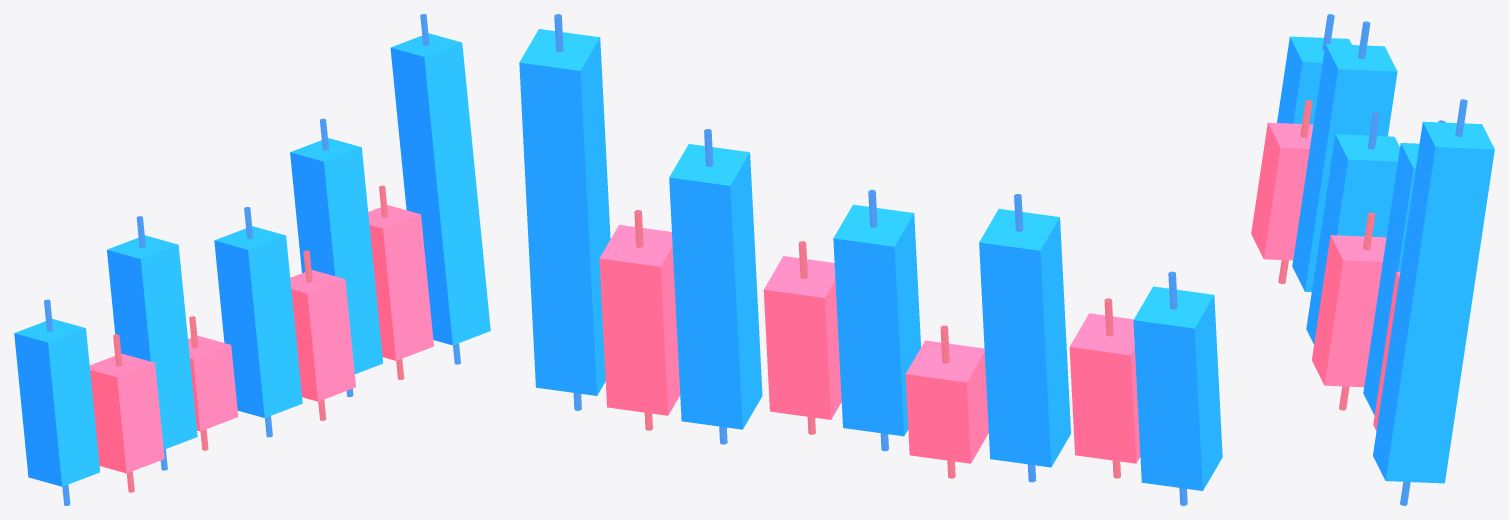
The model's file is hero_candles.glb.
3 renders of one model, left to right at view 1: azimuth 30°, elevation 25°; view 2: azimuth 150°, elevation 25°; view 3: azimuth 270°, elevation 25°, orthographic. The views are drawn at different scales.
Parts seen in each view (by area): view 1: Candle_08_body, Candle_04_body, Candle_06_body, Candle_02_body, Candle_00_body, Candle_07_body, Candle_01_body, Candle_05_body, Candle_03_body; view 2: Candle_08_body, Candle_06_body, Candle_02_body, Candle_04_body, Candle_00_body, Candle_07_body, Candle_05_body, Candle_01_body, Candle_03_body; view 3: Candle_08_body, Candle_02_body, Candle_05_body, Candle_04_body, Candle_01_body, Candle_06_body, Candle_00_body, Candle_07_body, Candle_01_wick_top, Candle_02_wick_top, Candle_05_wick_top, Candle_08_wick_top (+1 smaller).
Part boxes in pixels (x1,y1,x2,y2): Candle_08_body: (390,33,490,345); Candle_04_body: (214,226,302,417); Candle_06_body: (290,138,383,373); Candle_02_body: (107,235,197,449); Candle_00_body: (14,319,99,486); Candle_07_body: (368,205,433,360); Candle_01_body: (89,353,164,473); Candle_05_body: (290,270,355,401); Candle_03_body: (188,335,238,431); Candle_08_body: (519,29,610,395); Candle_06_body: (669,144,762,429); Candle_02_body: (979,208,1070,467); Candle_04_body: (833,204,920,436); Candle_00_body: (1133,286,1222,490); Candle_07_body: (599,224,680,415); Candle_05_body: (763,256,841,419); Candle_01_body: (1069,313,1140,463); Candle_03_body: (905,340,988,463); Candle_08_body: (1373,121,1494,483); Candle_02_body: (1292,44,1397,292); Candle_05_body: (1312,235,1386,387); Candle_04_body: (1306,134,1399,344); Candle_01_body: (1251,122,1313,260); Candle_06_body: (1363,143,1419,415); Candle_00_body: (1277,36,1351,124); Candle_07_body: (1373,271,1400,430); Candle_01_wick_top: (1300,100,1312,137); Candle_02_wick_top: (1358,21,1370,59); Candle_05_wick_top: (1363,212,1375,250); Candle_08_wick_top: (1455,99,1467,136).
Size of the model in its own units: 4.45 by 2.9 by 1.59.
